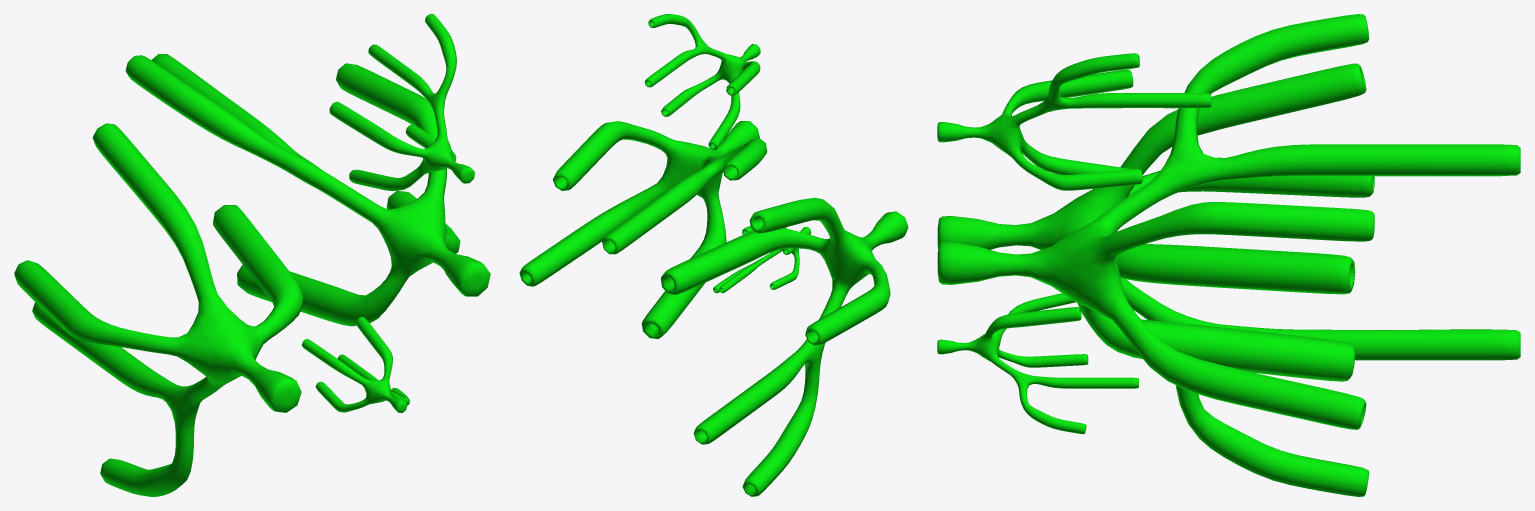
Rendered from tubeCoralClusterModel.fbx.
The picture shows the model from 3 angles, left to right: view 1: azimuth 30°, elevation 25°; view 2: azimuth 150°, elevation 25°; view 3: azimuth 270°, elevation 25°; orthographic projection. The views are drawn at different scales.
Visible parts, largest first — view 1: coralTubeCluster; view 2: coralTubeCluster; view 3: coralTubeCluster.
Boxes of the visible parts, x1=… form: coralTubeCluster: x1=14, y1=14, x2=490, y2=496; coralTubeCluster: x1=519, y1=14, x2=908, y2=496; coralTubeCluster: x1=937, y1=14, x2=1520, y2=496.
Bounding box in the file's own units: 131 × 149 × 139.
